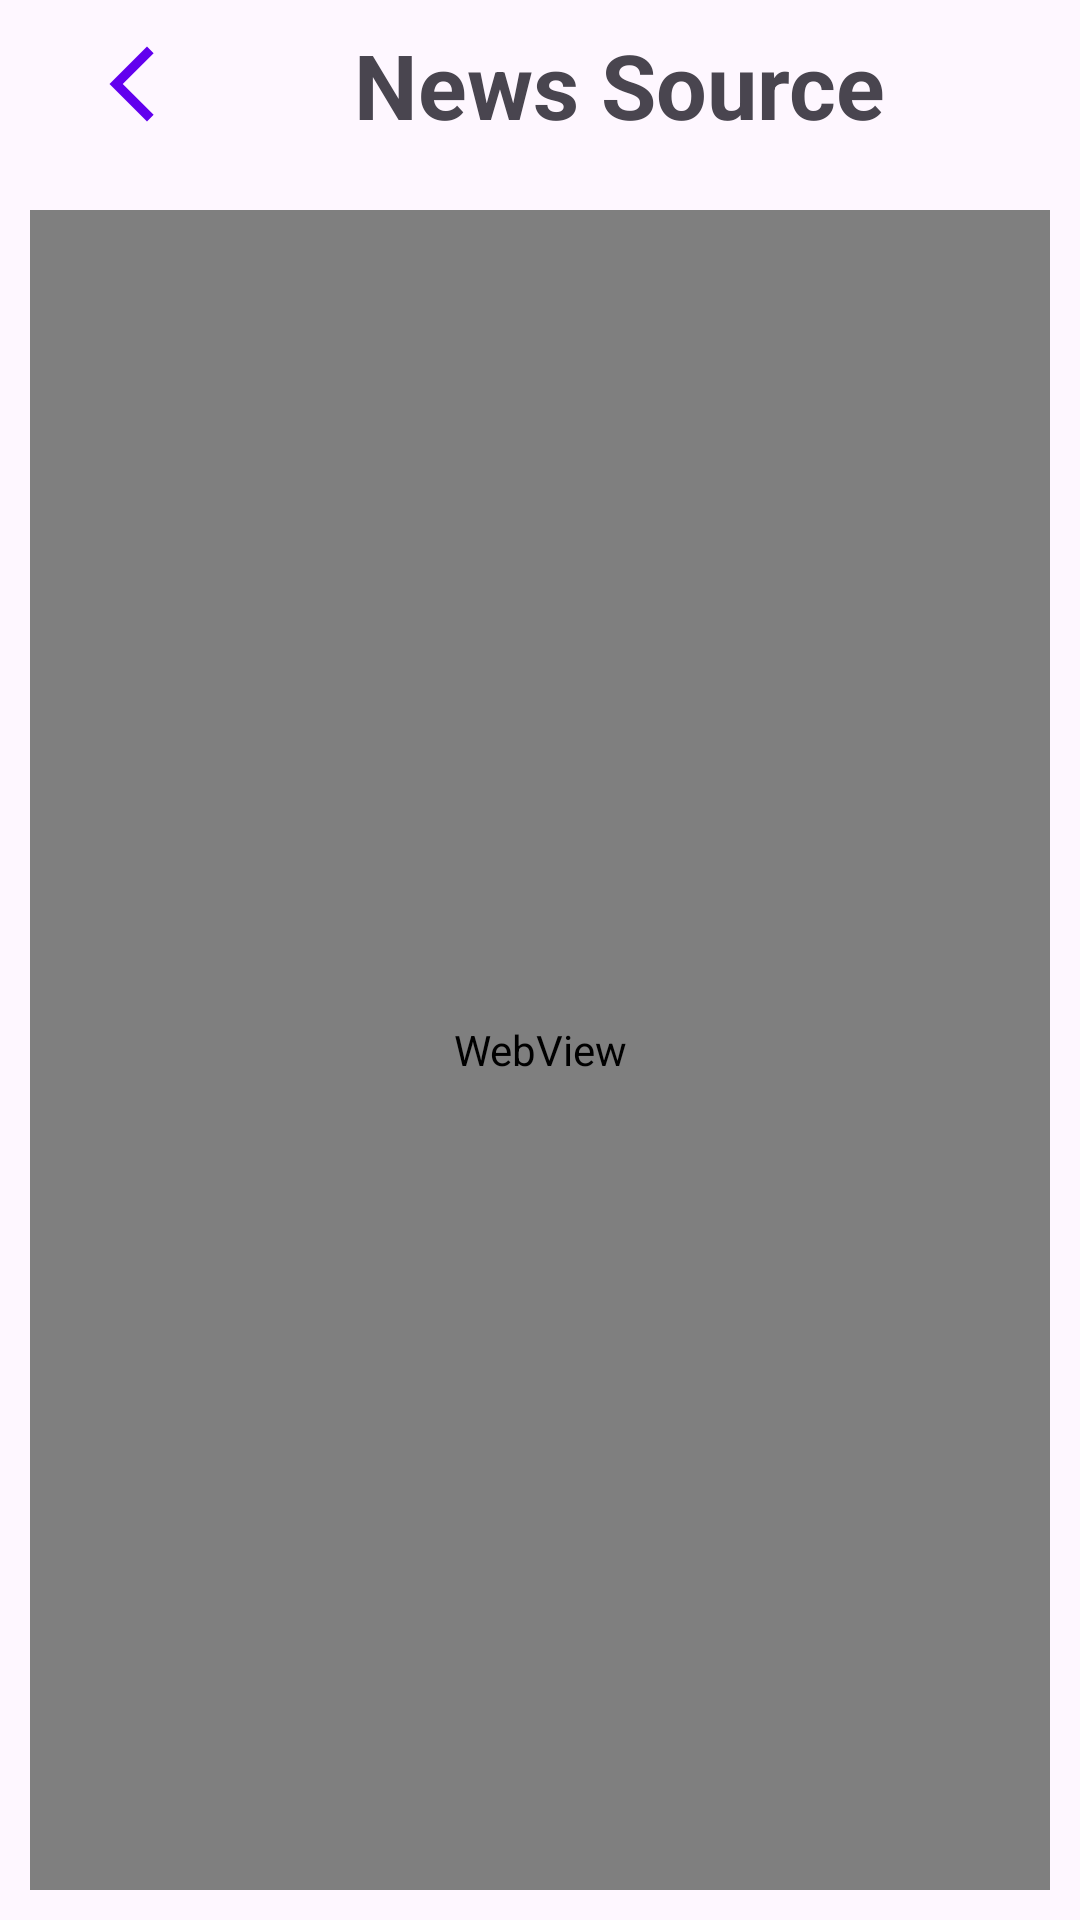

Screen size 1080 × 1920. Icon name, then its box in pixels as (x1, y1, x2, y2):
Press button and go back: (109, 46, 154, 122)
